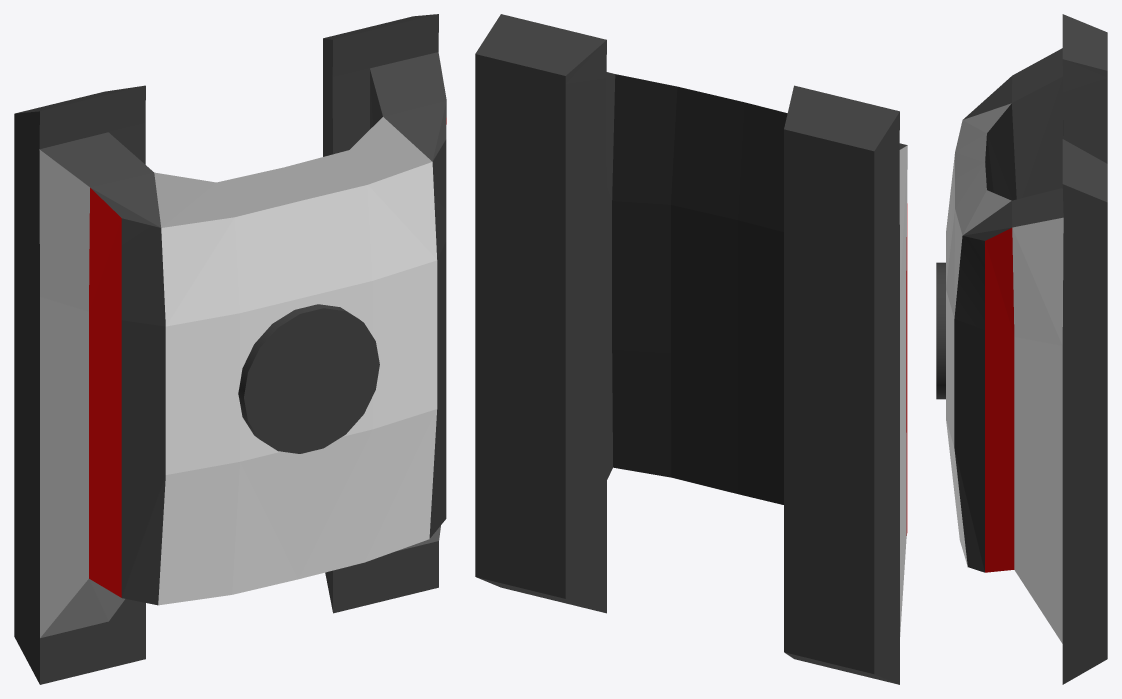
The model's file is catBase.obj.
3 views of the same model, side by side, from view 1: azimuth 30°, elevation 25°; view 2: azimuth 150°, elevation 25°; view 3: azimuth 270°, elevation 25° (orthographic). The views are drawn at different scales.
Visible parts, largest first — view 1: Box001, Cylinder026; view 2: Box001; view 3: Box001, Cylinder026.
Boxes of the visible parts, x1,y1,x2,y2 form: Box001: (14,14,446,684); Cylinder026: (238,304,379,453); Box001: (475,14,907,684); Box001: (946,14,1107,684); Cylinder026: (936,262,945,399).
Bounding box in the file's own units: 1.76 × 2.42 × 0.7496.
